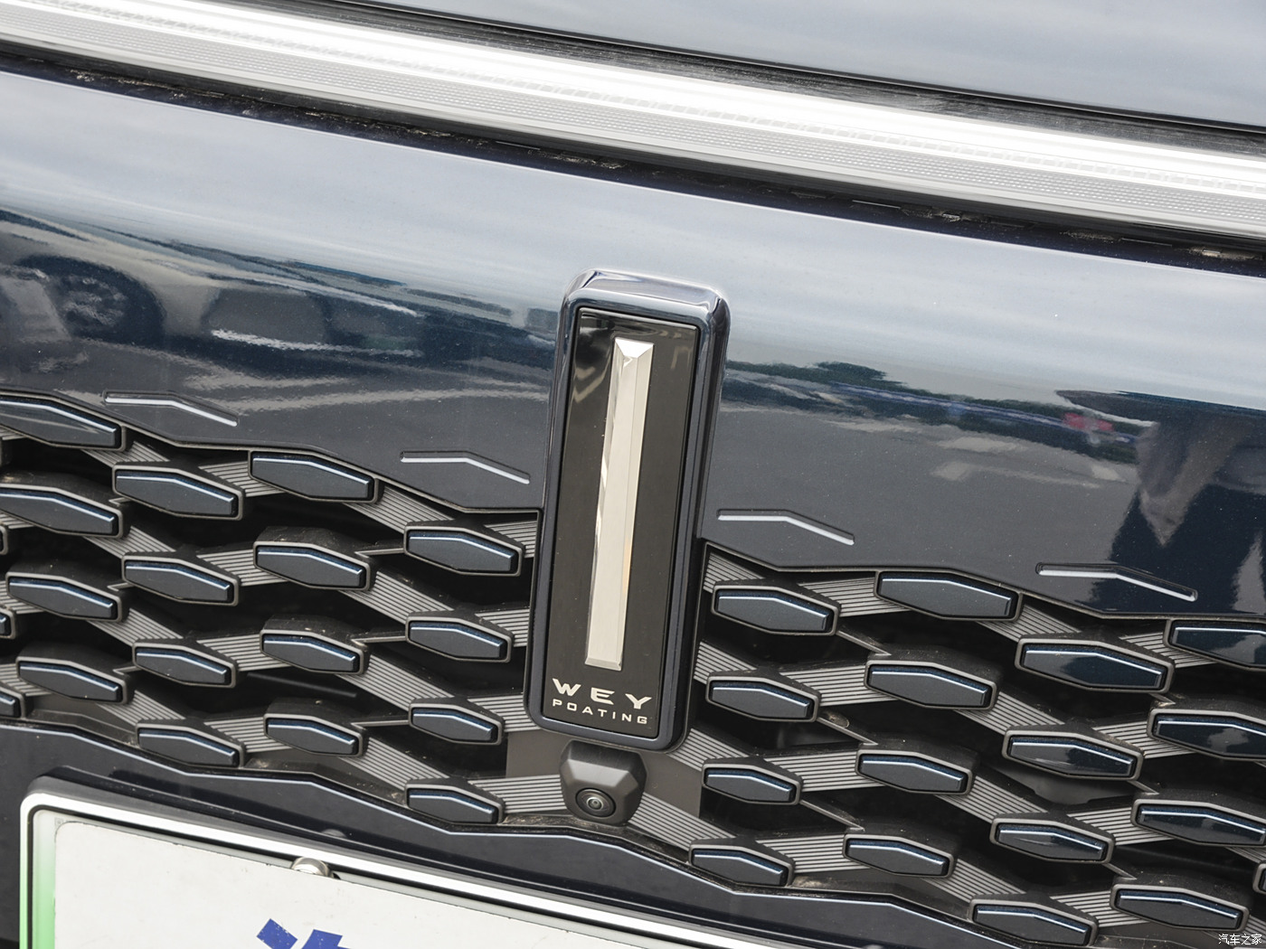WEY: (529, 289, 709, 747)
